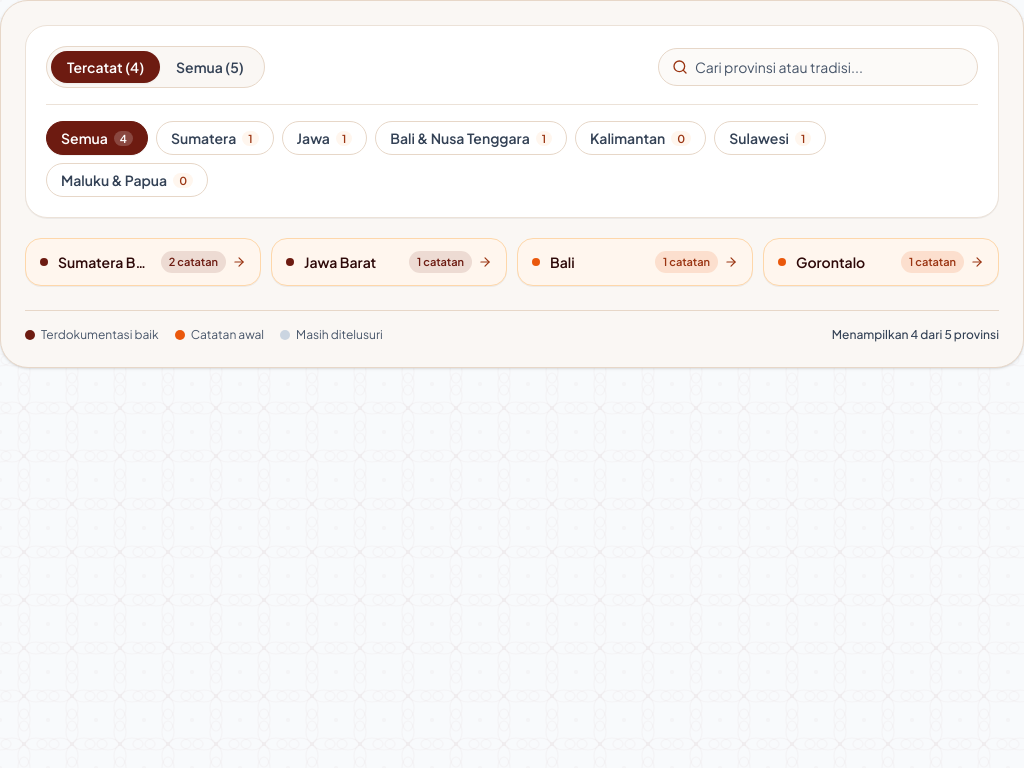
Test: ProvinceExplorer › menyaring provinsi berdasarkan gugus pulau dan kotak pencarian
The width and height of the screenshot is (1024, 768).
Click the button "Jawa 1" at (324, 138), box [282,121,367,155]
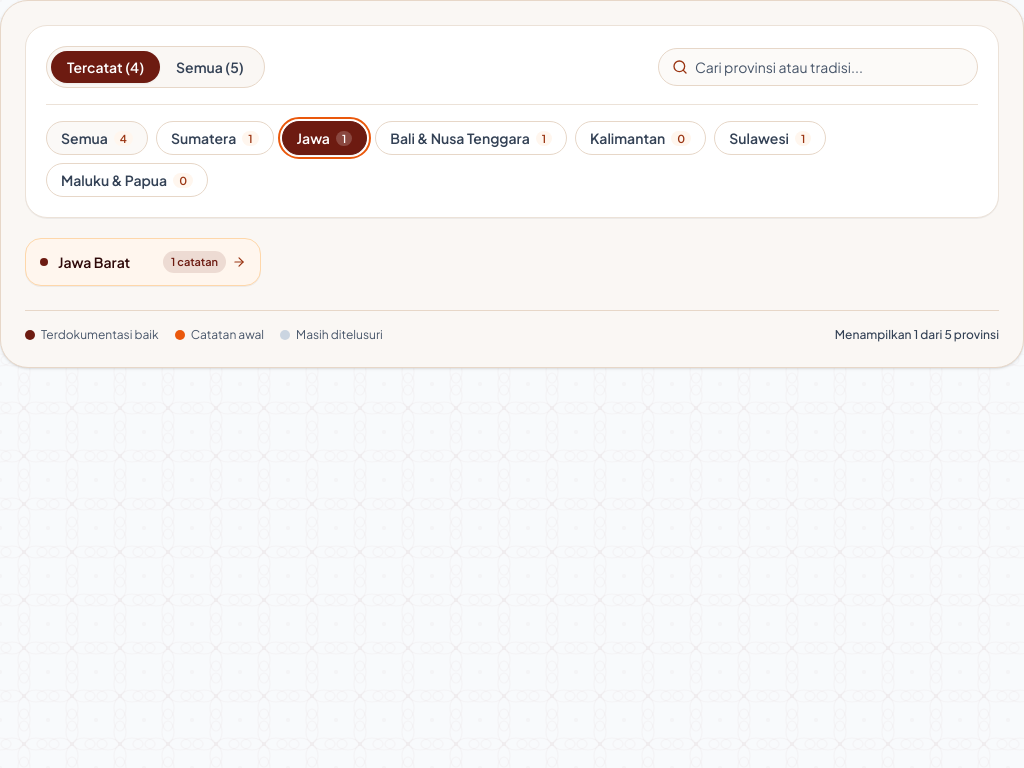
Expected: the button "Jawa Barat 1 catatan" is shown, [25,238,261,286]
Now the button "Sumatera Barat" is gone
Click the button "Semua 4" at (97, 138), box [46,121,148,155]
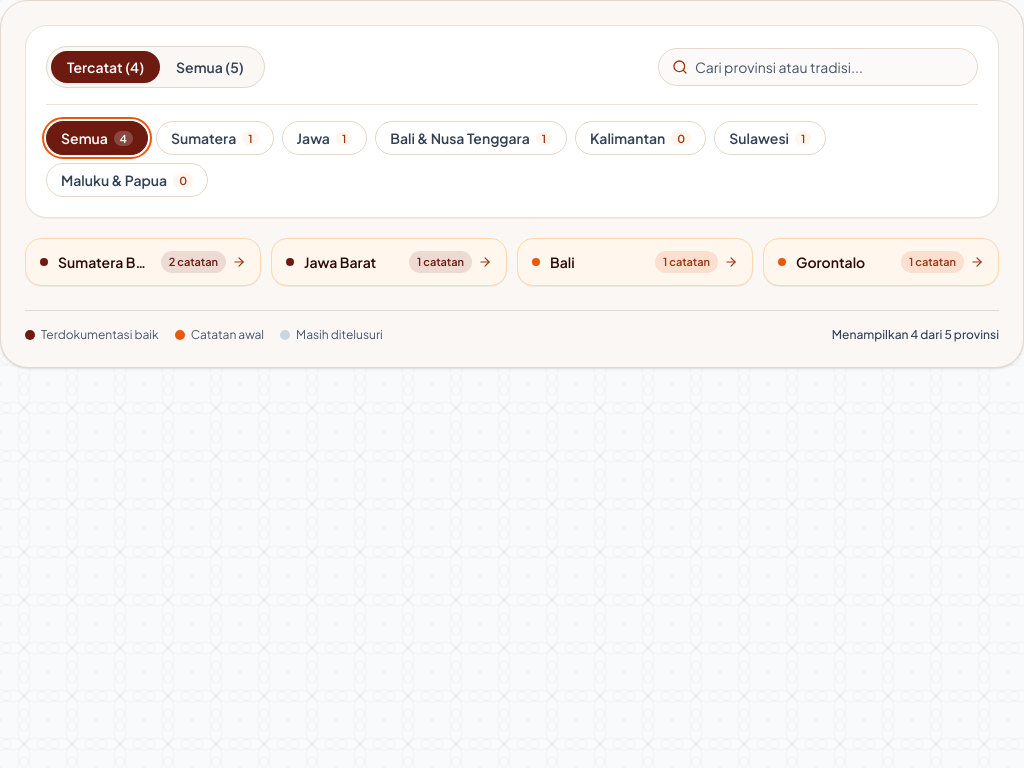
Type "tengklung" into the search field labelled "Cari provinsi atau tradisi" at (818, 67), box [658,48,978,86]
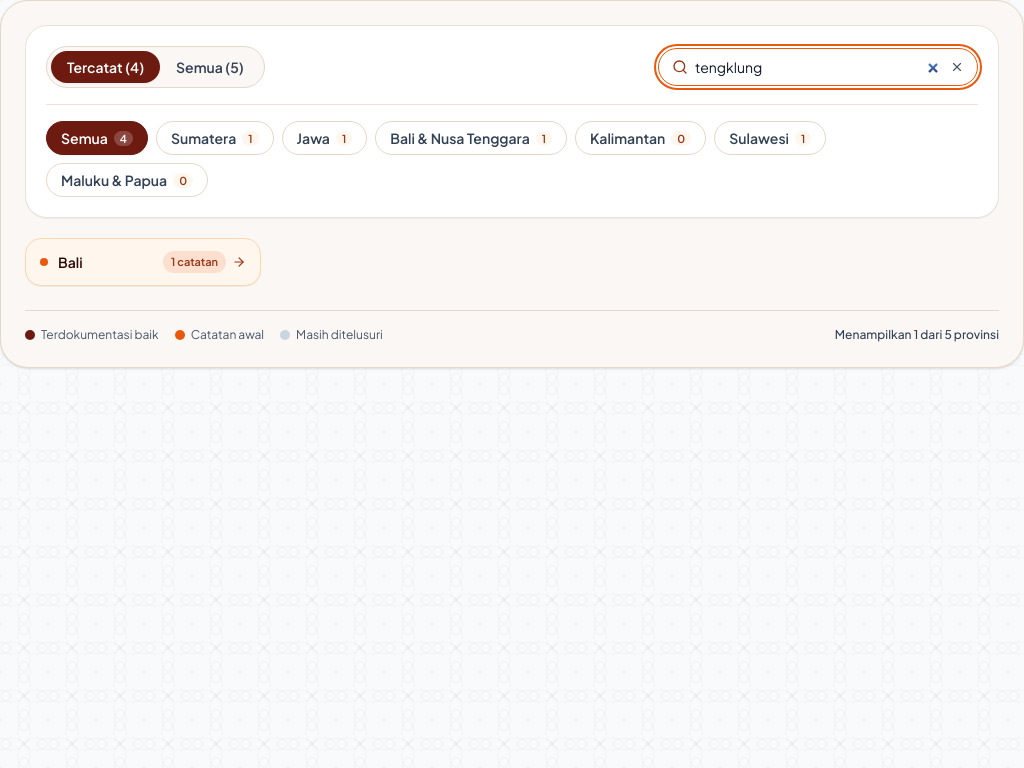
Now the button "Bali 1 catatan" is shown, box [25,238,261,286]
Now the button "Jawa Barat" is gone
Replace the text in the search field named "Cari provinsi atau tradisi" with "zzzzzz" at (818, 67), box [658,48,978,86]
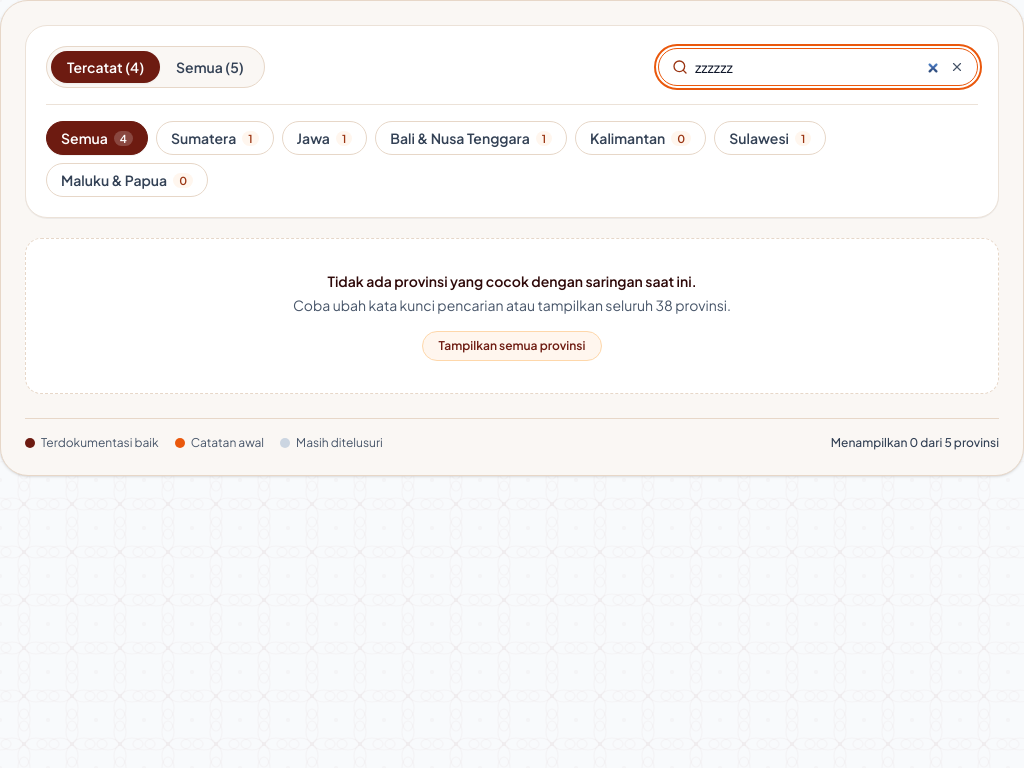
Now the text "Tidak ada provinsi yang cocok dengan saringan saat ini." is shown, box [328,272,696,290]
Click the button "Tampilkan semua provinsi" at (512, 346), box [422,331,602,361]
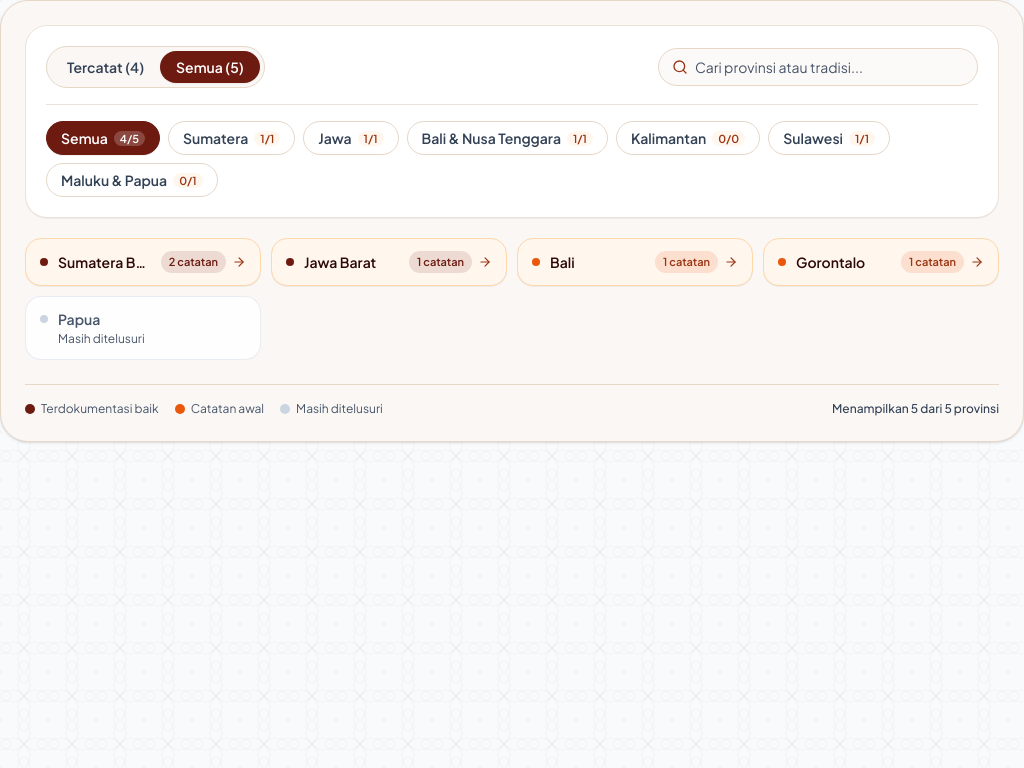
Now the button "Papua Masih ditelusuri" is shown, box [25,296,261,360]
